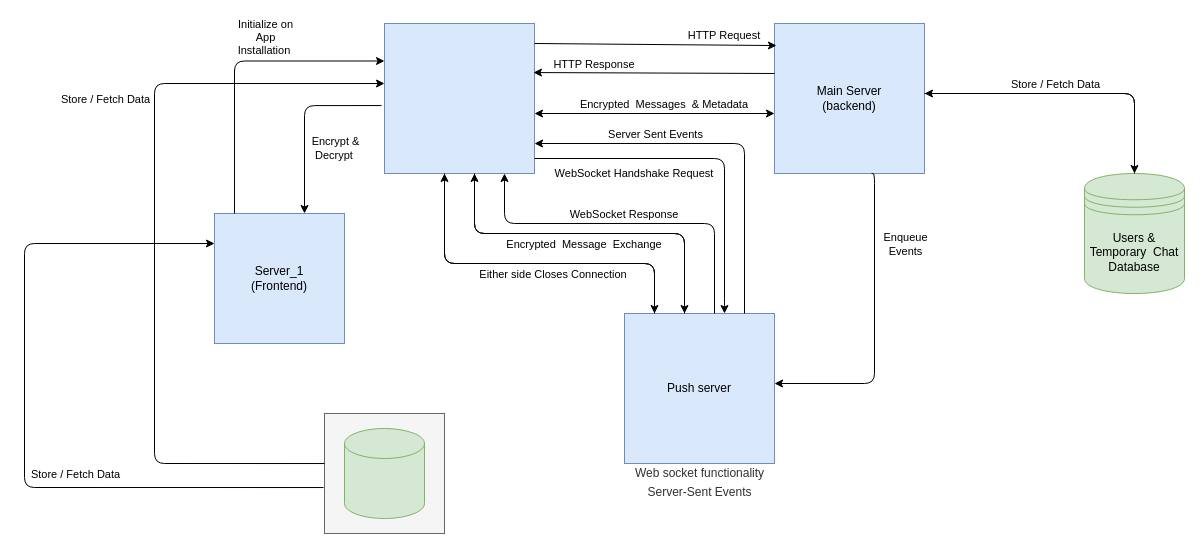
This 1202x551 diagram has some shape labels left out. Here are the shapes that lost their labels. From the top down, the centre of each, then its label:
At pixel 459 98: "Web Browser (Client) Application (Frontend)".
At pixel 384 473: "LocalStorage".
